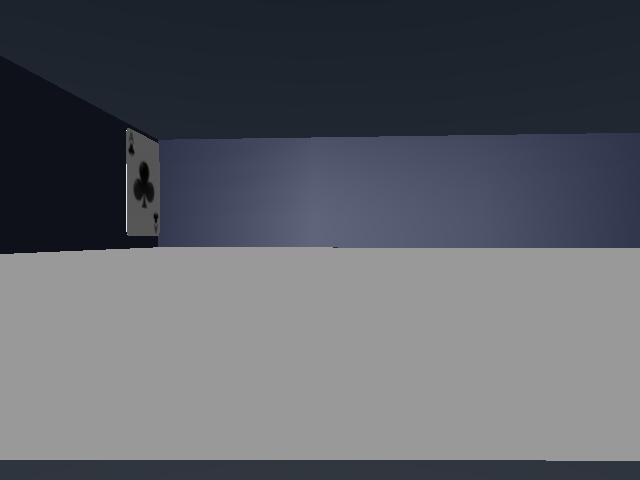club: (126, 129, 159, 235)
